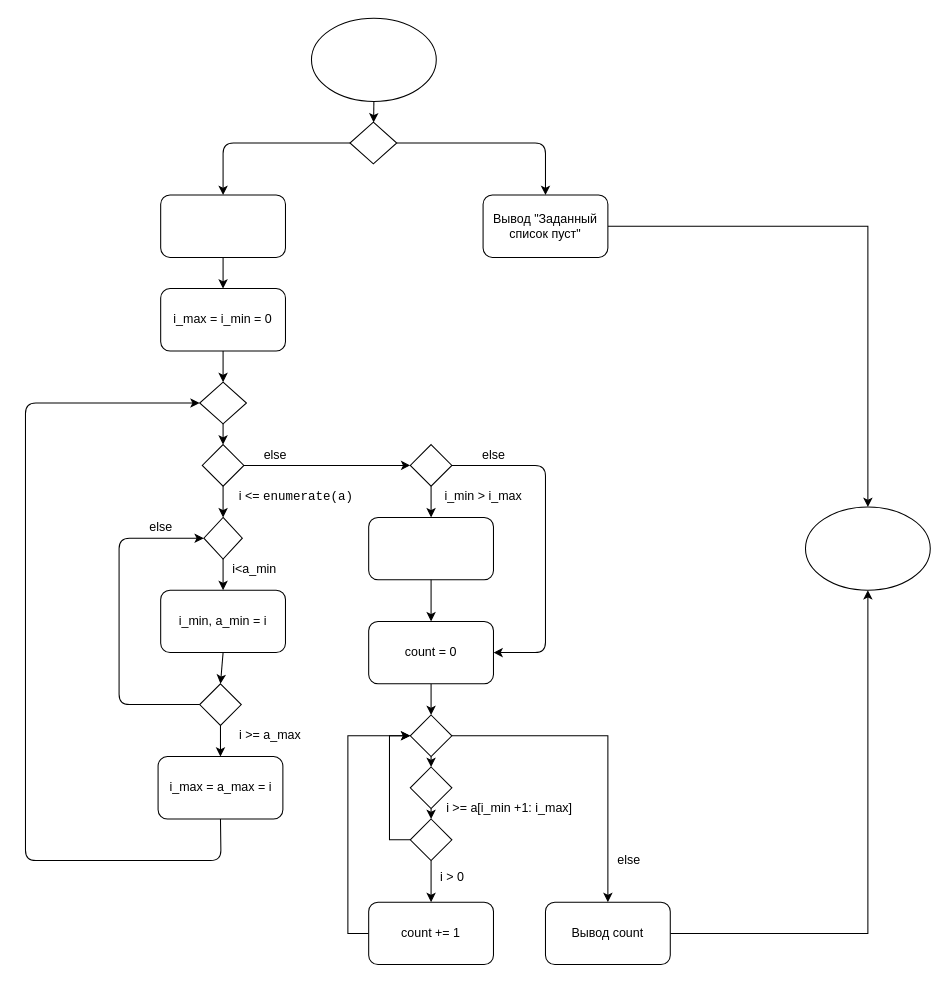
This 948x983 diagram has some shape labels left out. Each missing label, with the box of its shape:
a_min = a_max+a[0]: (160, 194, 285, 257)
i_min, i_max = i_max, i_min: (368, 516, 493, 580)
Ввод а: (310, 17, 436, 101)
Конец: (804, 506, 930, 590)
